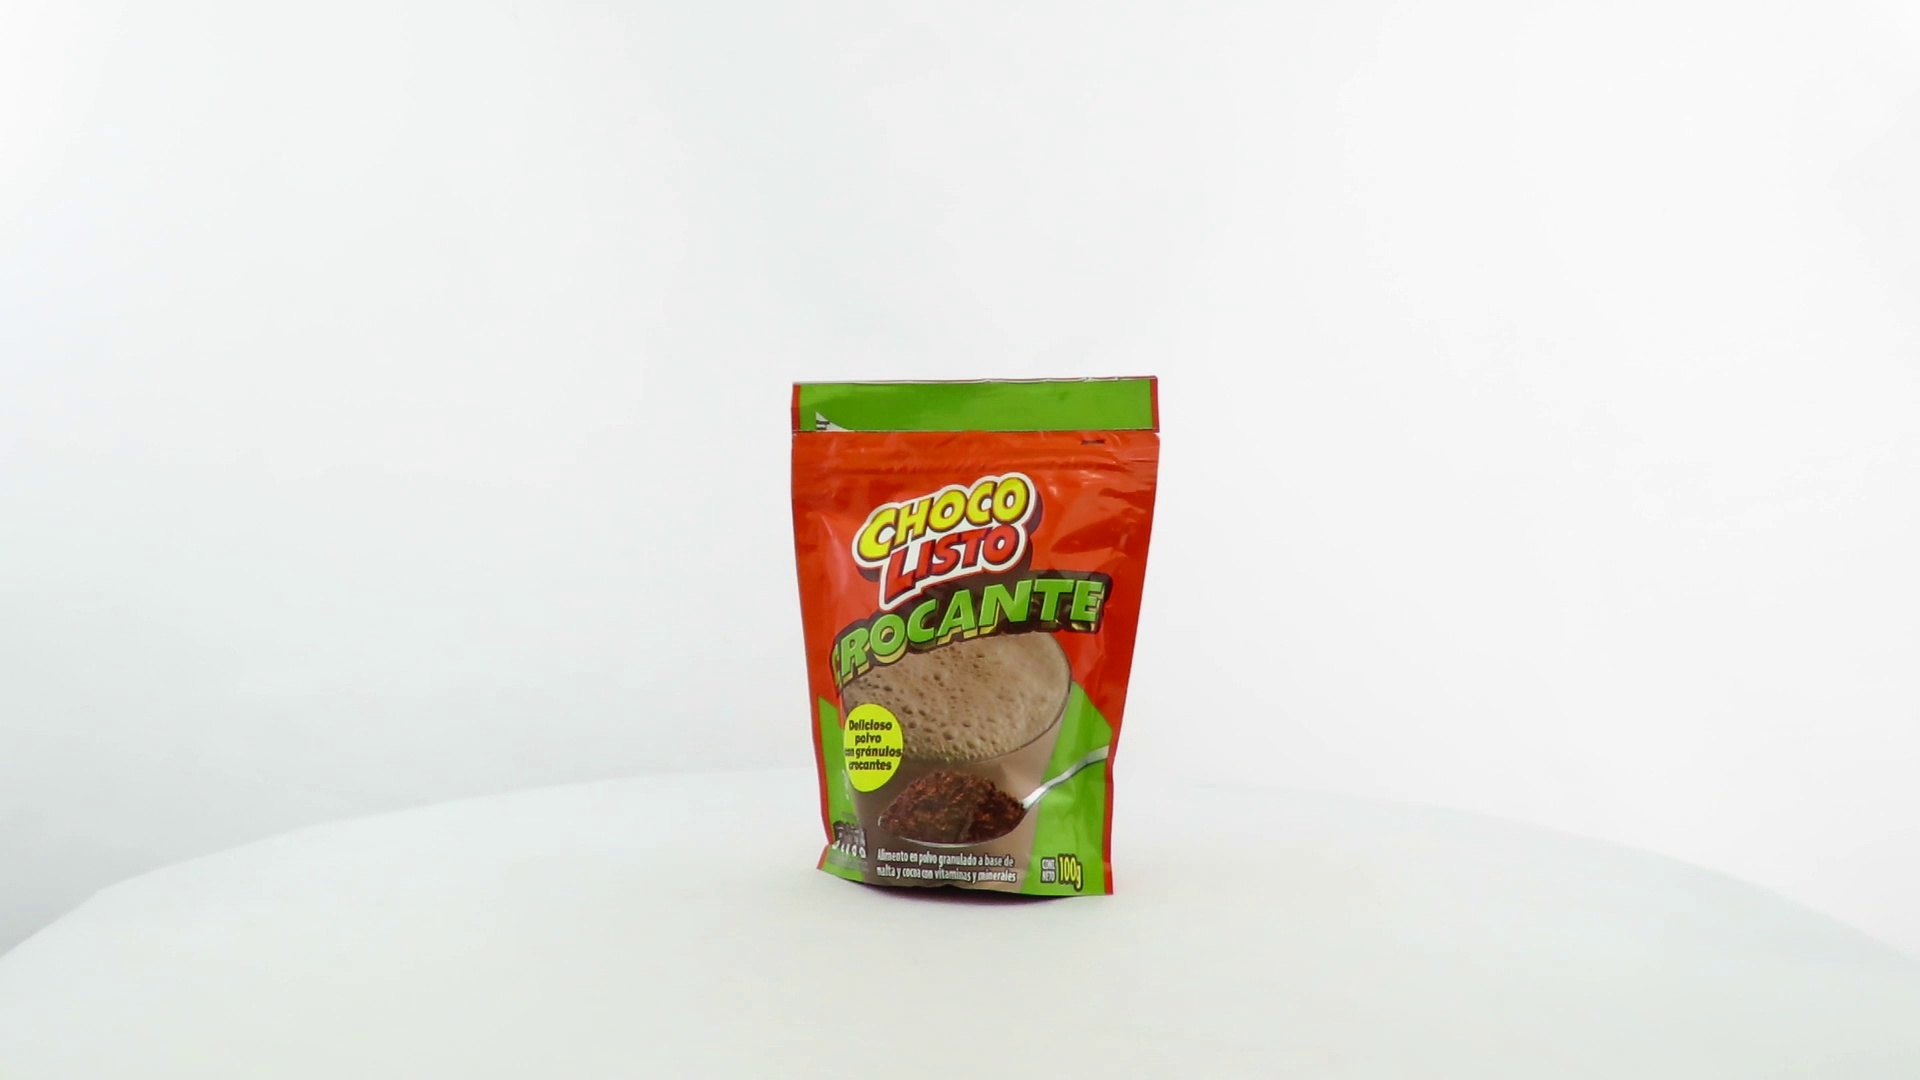COL0170102DYP10000: (785, 371, 1166, 913)
